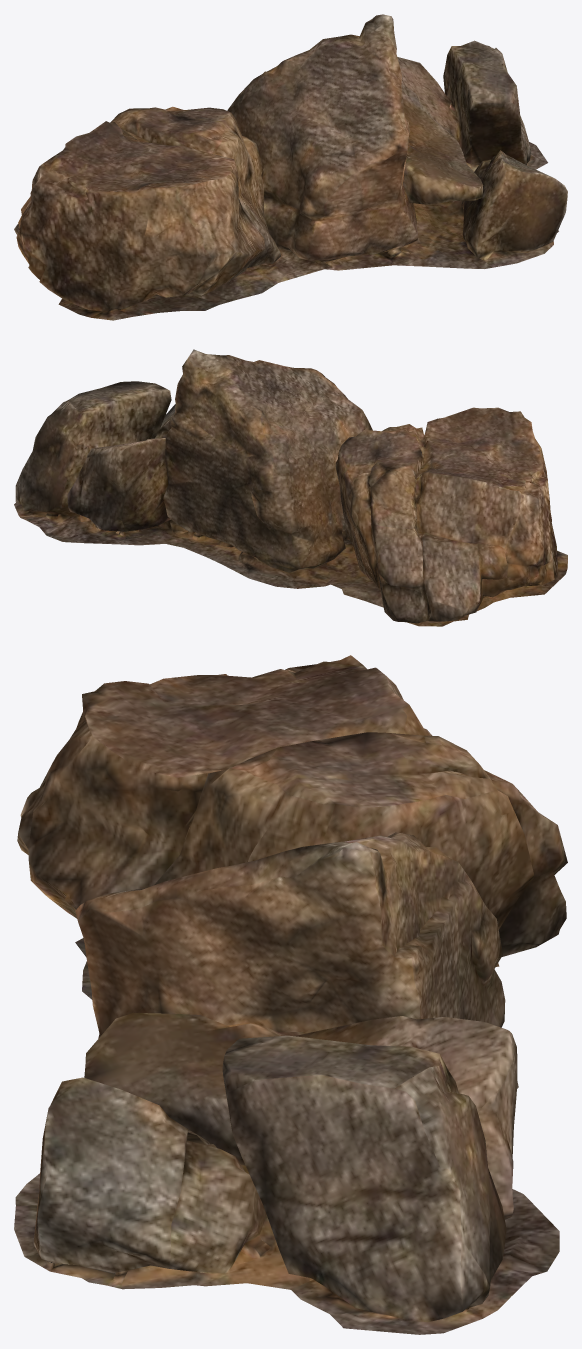
File: namaqualand_boulder_02.glb
The picture shows the model from 3 angles, top to bottom: view 1: azimuth 30°, elevation 25°; view 2: azimuth 150°, elevation 25°; view 3: azimuth 270°, elevation 25°; orthographic projection. The views are drawn at different scales.
Parts seen in each view (by area): view 1: boulder; view 2: boulder; view 3: boulder.
Part boxes in pixels (x1,y1,x2,y2): boulder: (14,14,567,320); boulder: (14,349,567,626); boulder: (14,655,567,1334).
Bounding box in the file's own units: 2.52 × 0.8802 × 1.23.
Materials: 1 (1 with a texture image).
